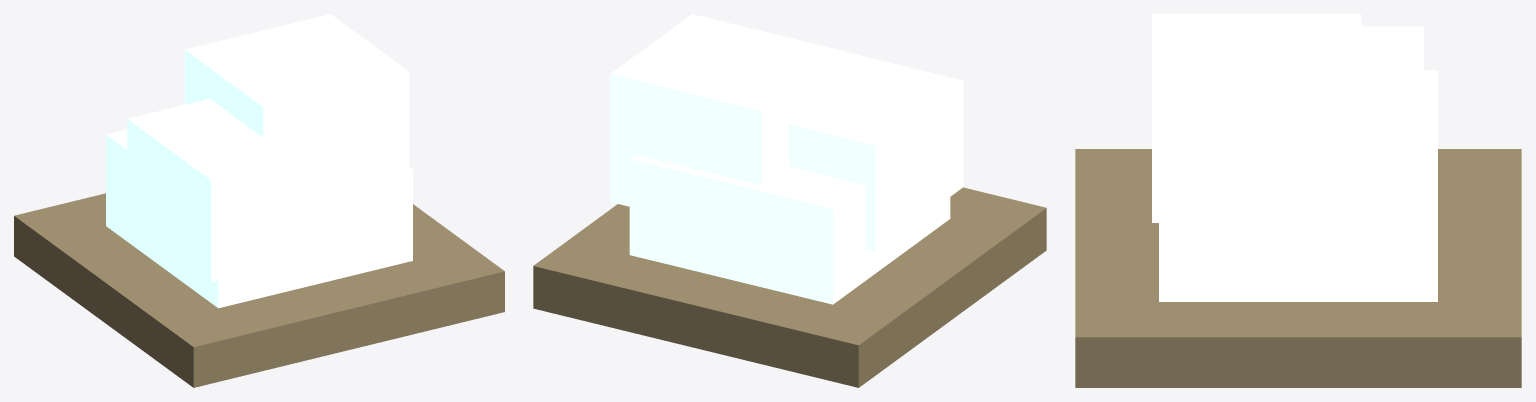
Rendered from silver_herb.glb.
3 views of the same model, side by side, from view 1: azimuth 30°, elevation 25°; view 2: azimuth 150°, elevation 25°; view 3: azimuth 270°, elevation 25° (orthographic). The views are drawn at different scales.
Visible parts, largest first — view 1: SilverHerbLeaves, OfferingDish; view 2: SilverHerbLeaves, OfferingDish; view 3: SilverHerbLeaves, OfferingDish.
Boxes of the visible parts, <box> form: SilverHerbLeaves: <box>106,14,412,308</box>; OfferingDish: <box>14,193,504,387</box>; SilverHerbLeaves: <box>610,14,963,304</box>; OfferingDish: <box>533,187,1046,387</box>; SilverHerbLeaves: <box>1152,14,1437,301</box>; OfferingDish: <box>1075,149,1521,387</box>.
Bounding box in the file's own units: 0.32 × 0.2 × 0.32.
